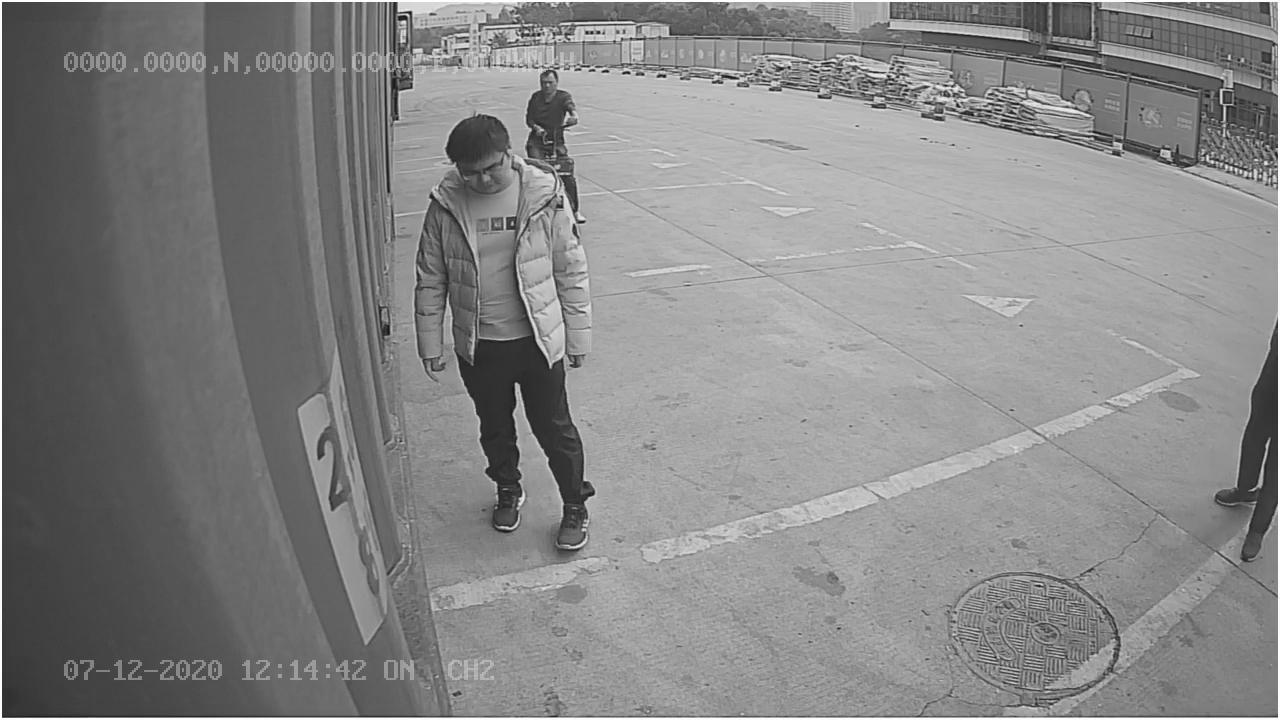person: (416, 115, 602, 551)
